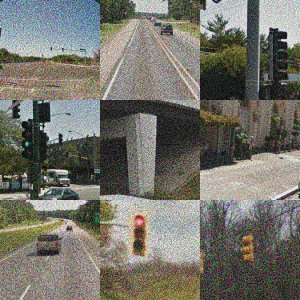公車: (224, 238, 299, 300), (223, 126, 294, 189), (220, 24, 299, 68)
汽車: (123, 260, 170, 273), (67, 165, 92, 186), (157, 273, 181, 292), (26, 50, 51, 61), (25, 162, 41, 176), (65, 55, 85, 65), (45, 168, 61, 180)
紅綠燈: (42, 103, 60, 126), (6, 106, 21, 132), (77, 108, 94, 126)
